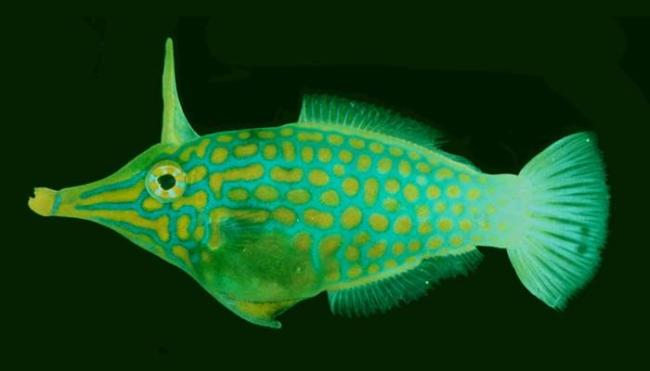fish: (27, 38, 612, 330)
